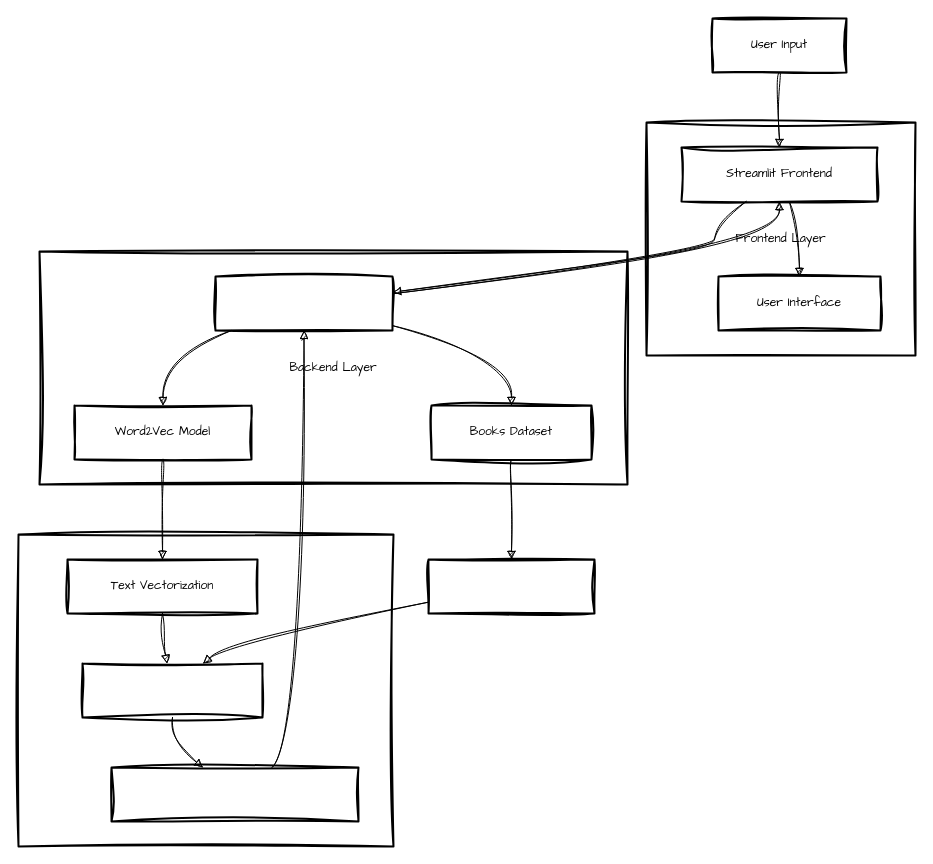
Image size: 933x864. Some labels were removed from this diagram. The shapes that lost their labels are listed below. From the top down, each one's centre as x and y in pixels, then its label:
At point 303,303: "FastAPI Backend".
At point 511,586: "Book Metadata".
At point 172,690: "Cosine Similarity".
At point 234,794: "Ranked Recommendations".
